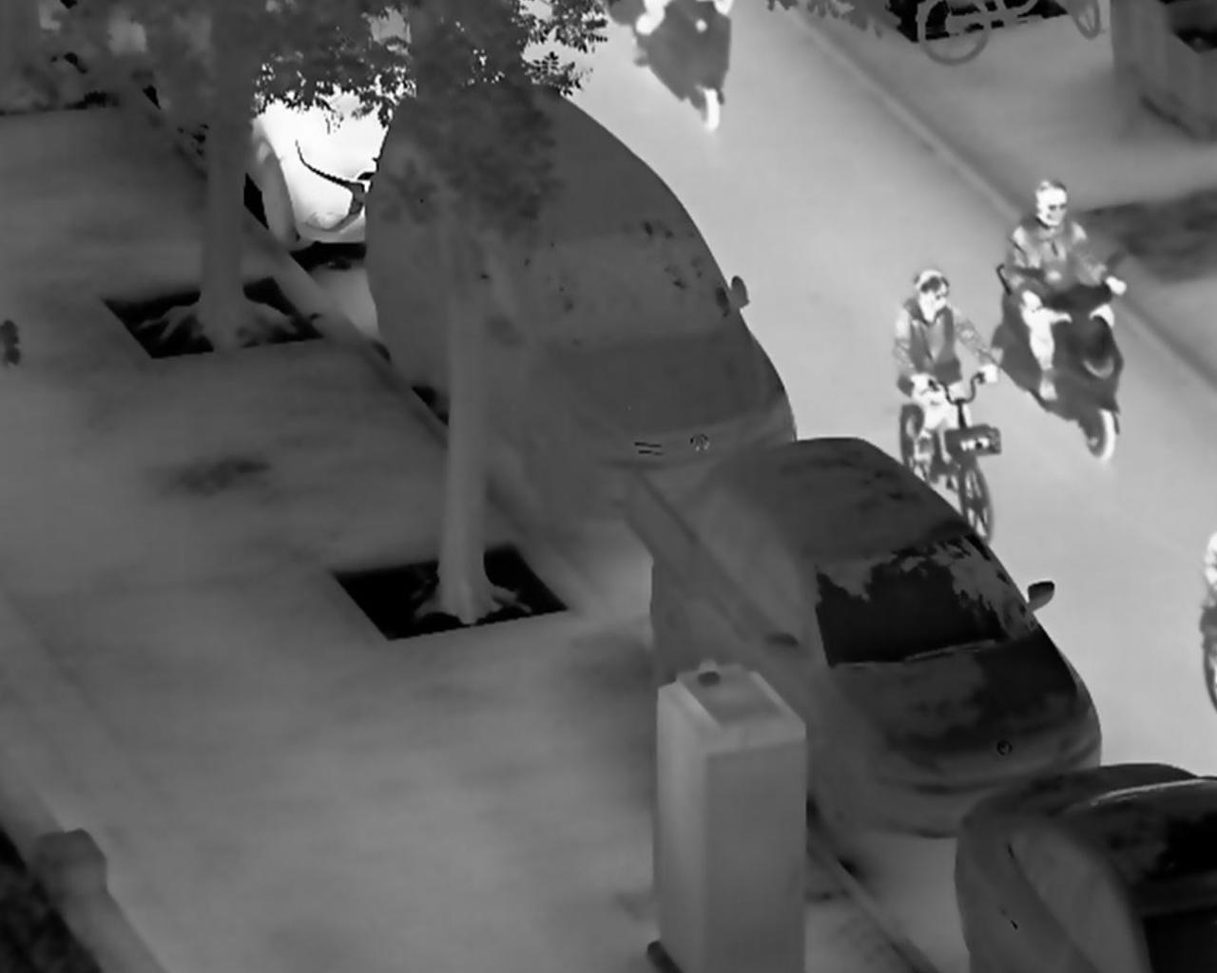person: (1003, 175, 1130, 405), (892, 264, 1002, 467)
